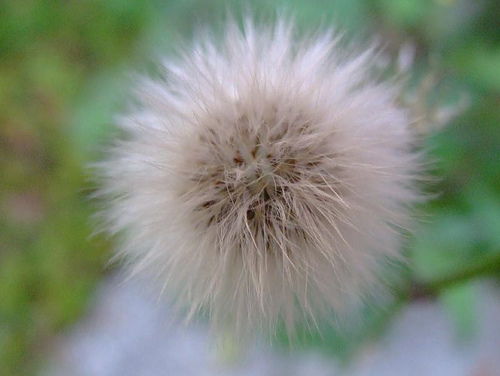dandelion: (67, 6, 454, 351)
